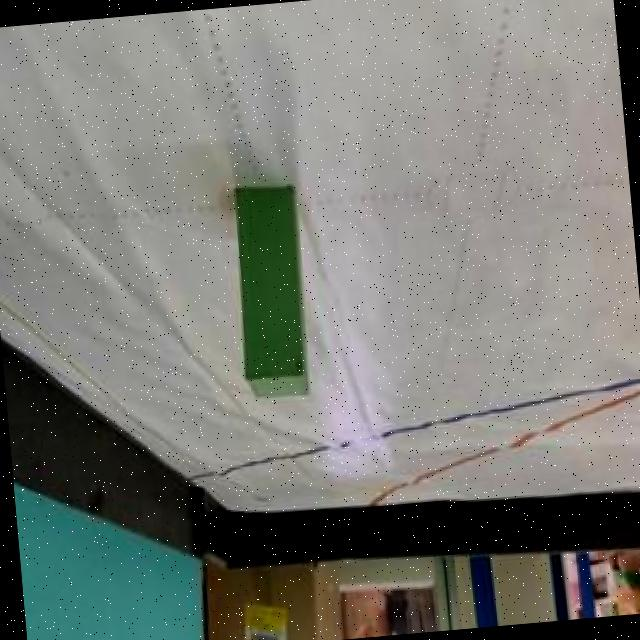greenbox: (227, 185, 313, 404)
